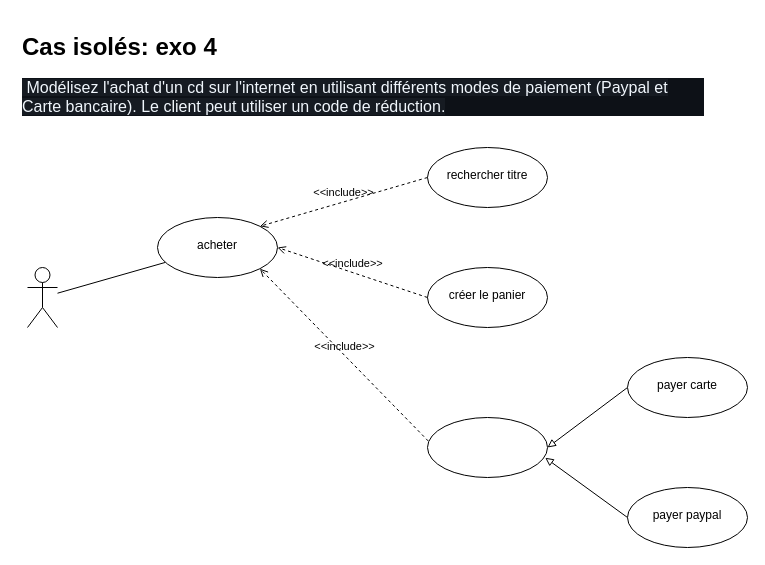
The diagram is 765 pixels wide and 565 high, and some of its shapes have lost their labels. The shapes that lost their labels are listed below. From the top down, each one's box as (x1, y1, x2, y2) in pixels, then its label:
(26, 266, 58, 328): Client
(426, 416, 548, 478): payer
